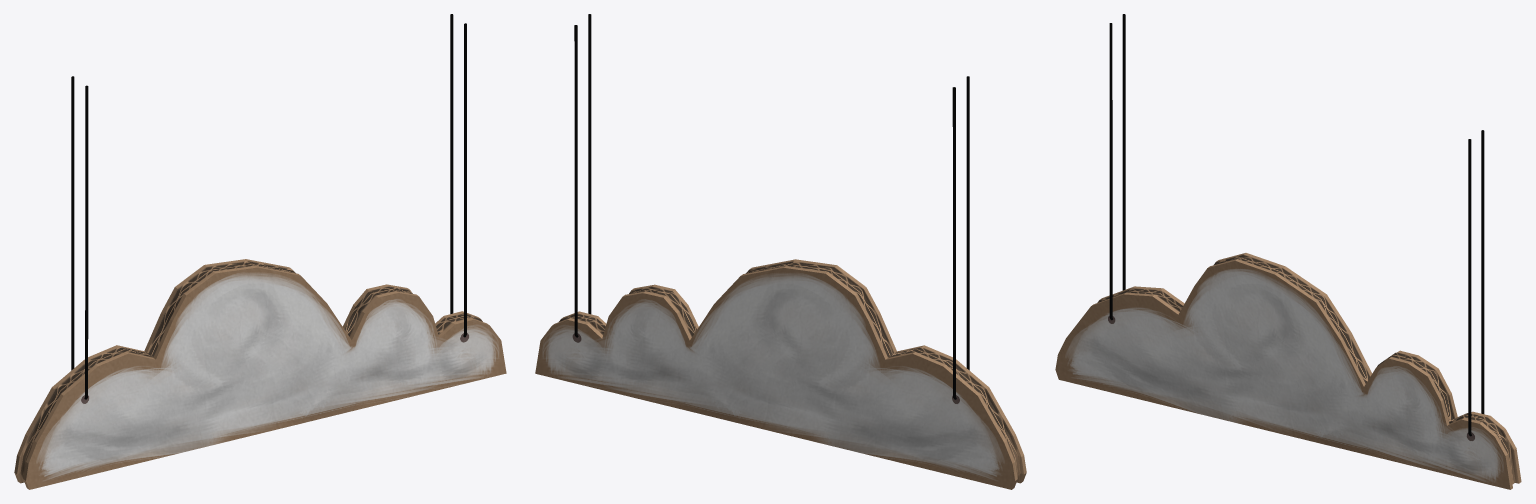
File: cardboard_cloud.fbx
3 views of the same model, side by side, from view 1: azimuth 30°, elevation 25°; view 2: azimuth 150°, elevation 25°; view 3: azimuth 330°, elevation 25° (orthographic). The views are drawn at different scales.
Visible parts, largest first — view 1: cardboard_cloud; view 2: cardboard_cloud; view 3: cardboard_cloud.
Boxes of the visible parts, x1=… form: cardboard_cloud: x1=14, y1=14, x2=506, y2=489; cardboard_cloud: x1=535, y1=14, x2=1026, y2=489; cardboard_cloud: x1=1055, y1=14, x2=1521, y2=489.
Size of the model in its own units: 25.58 by 19.87 by 1.39.
1 material, 1 textured.
